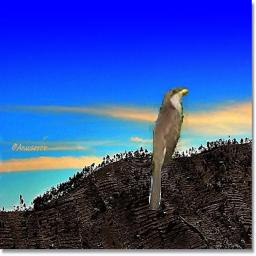Cuckoo: (149, 87, 189, 210)
